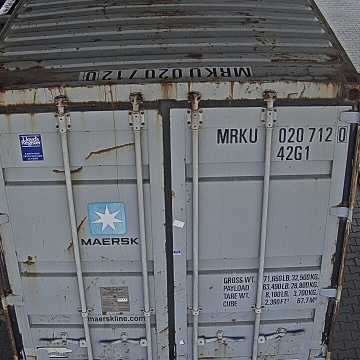serial_id: (217, 126, 347, 143)
